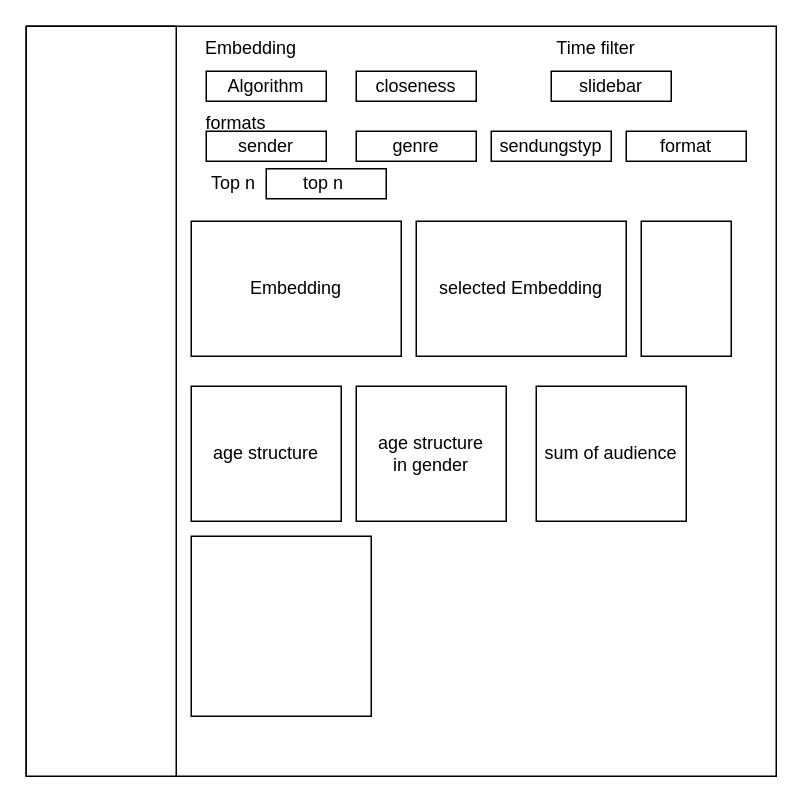
Some shapes in this 803 by 803 pixel diagram are drawn without their labels. Each missing label, with the centre of its shape:
dataframe selected embedding: the point at 685,288
the sum of the common audience between two formats: the point at 280,625
